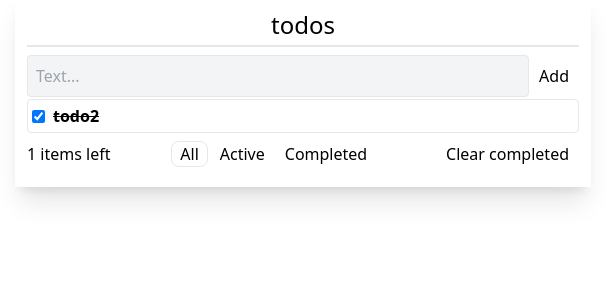
it: App component › должен по нажатию на Clear
Click the button "All": {"x": 190, "y": 154} [171, 141, 208, 167]
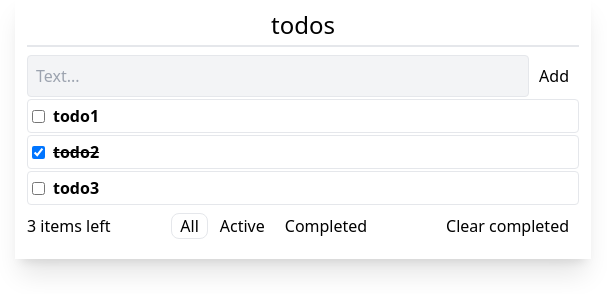
Click the button "Clear completed": {"x": 508, "y": 226} [438, 214, 577, 238]
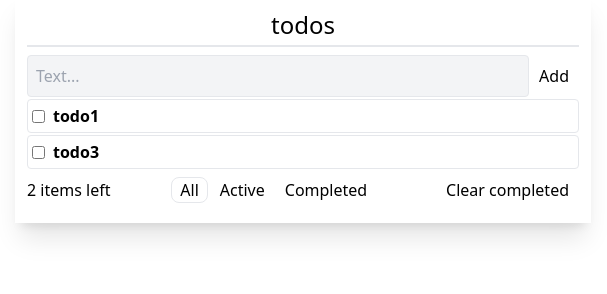
Expected: the text "todo1" is shown, [53, 104, 99, 128]
Expected: the text "todo3" is shown, [53, 140, 99, 164]
Expected: the text "2 items left" is shown, [27, 178, 110, 202]
